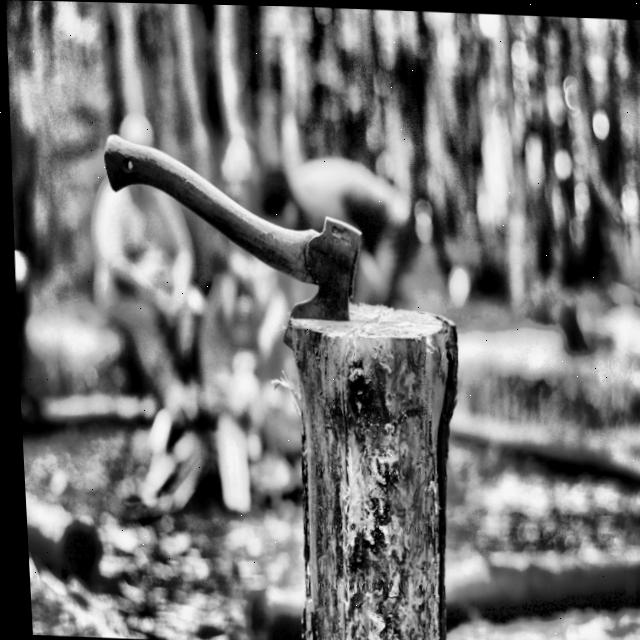kapak: (83, 116, 382, 370)
